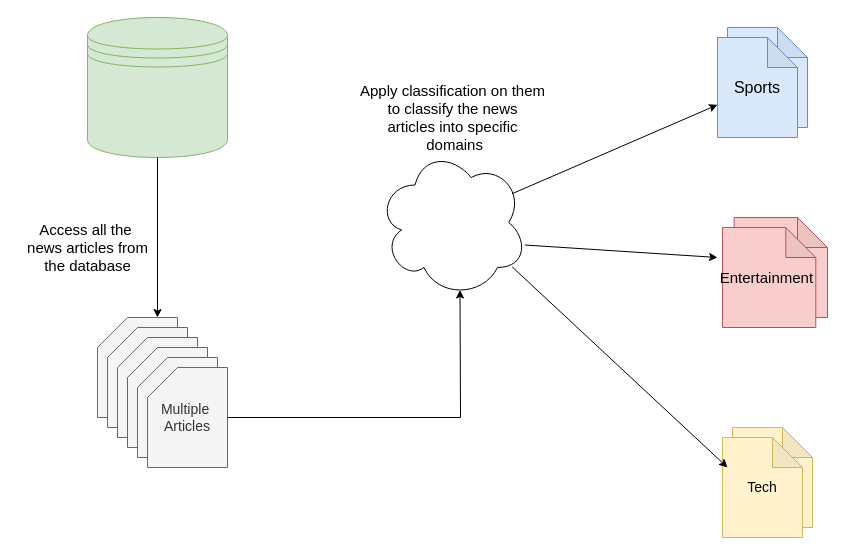
The diagram is 845 pixels wide and 555 high, and some of its shapes have lost their labels. Each missing label, with the box of its shape:
Database: (86, 16, 228, 158)
Document Classifier: (376, 146, 528, 298)
